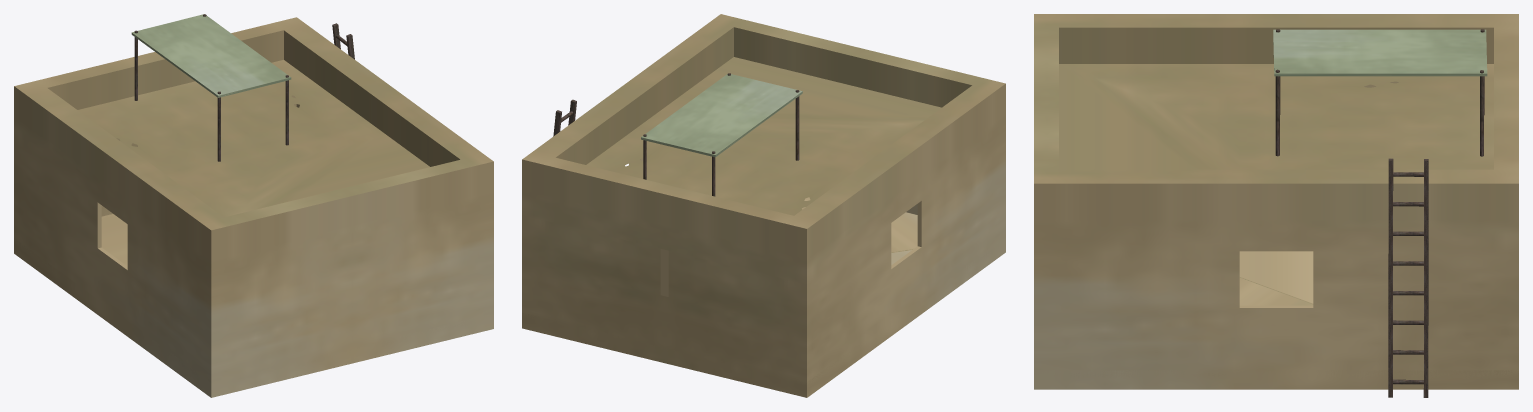
The model's file is home2.fbx.
3 views of the same model, side by side, from view 1: azimuth 30°, elevation 25°; view 2: azimuth 150°, elevation 25°; view 3: azimuth 270°, elevation 25° (orthographic). The views are drawn at different scales.
Parts seen in each view (by area): view 1: Cylinder.003; view 2: Cylinder.003; view 3: Cylinder.003.
Part boxes in pixels (x1,y1,x2,y2): Cylinder.003: [14, 14, 493, 397]; Cylinder.003: [522, 14, 1005, 397]; Cylinder.003: [1034, 14, 1518, 397].
Bounding box in the file's own units: 2757 × 1792 × 3093.
